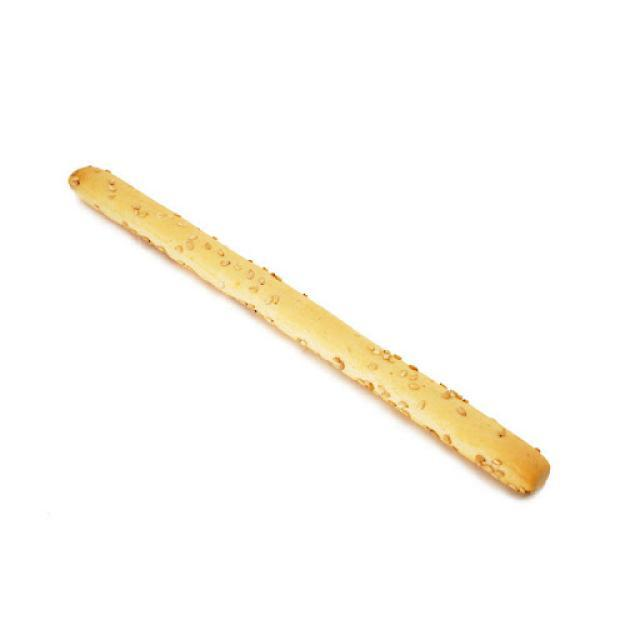Grissini: (64, 165, 552, 504)
